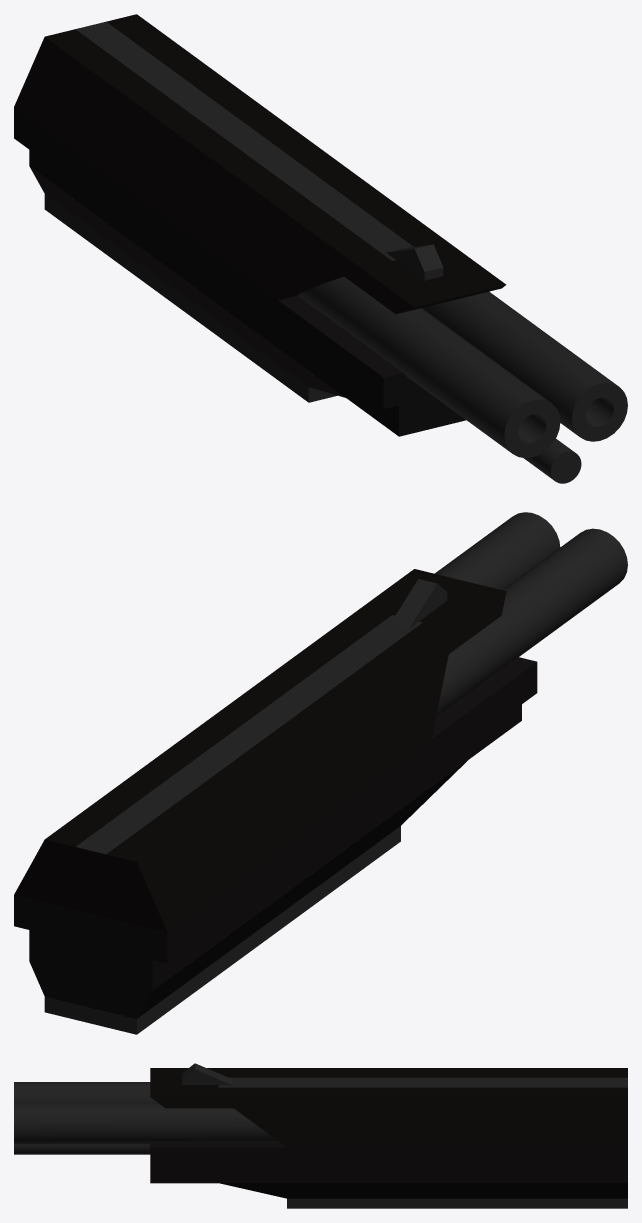
File: double-barreled_shotgun_front.fbx
The picture shows the model from 3 angles, top to bottom: view 1: azimuth 30°, elevation 25°; view 2: azimuth 150°, elevation 25°; view 3: azimuth 270°, elevation 25°; orthographic projection. The views are drawn at different scales.
Visible parts, largest first — view 1: mergedBlocks; view 2: mergedBlocks; view 3: mergedBlocks.
Part boxes in pixels (x1,y1,x2,y2): mergedBlocks: (14,14,627,483); mergedBlocks: (14,512,627,1034); mergedBlocks: (14,1063,627,1208).
Size of the model in its own units: 4.05 by 4.98 by 21.72.
Materials: 1 (1 with a texture image).
